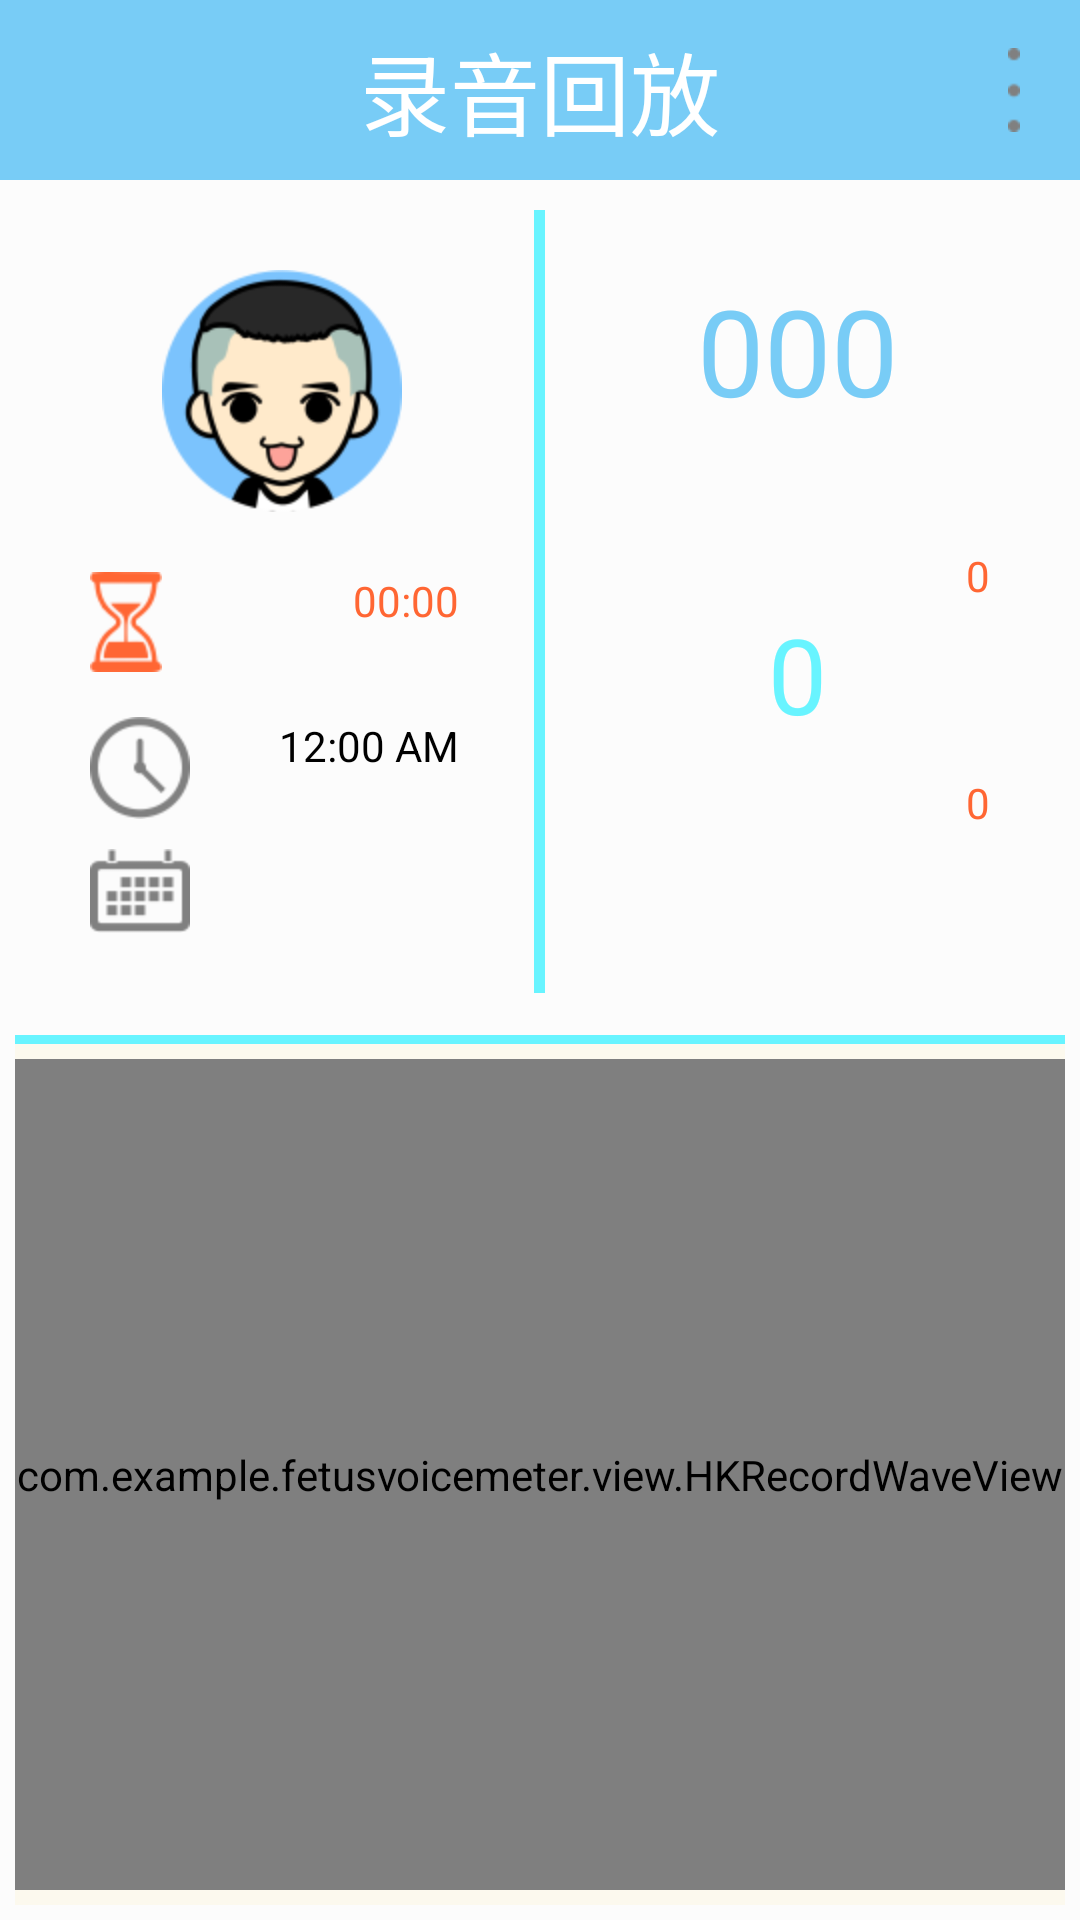

Where to tap for icons on this 1080w x 1920h app screen, as point (x, y):
date: point (140, 890)
head: point (282, 391)
